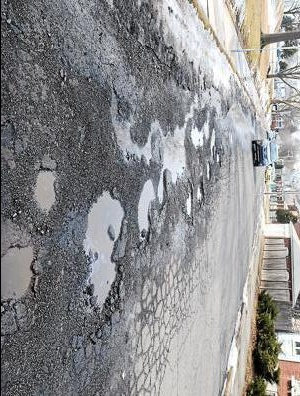pothole: (82, 187, 127, 315), (1, 239, 41, 305), (138, 176, 158, 243), (34, 166, 59, 213), (185, 186, 196, 222), (158, 169, 167, 204), (195, 180, 206, 205), (205, 160, 212, 182)
